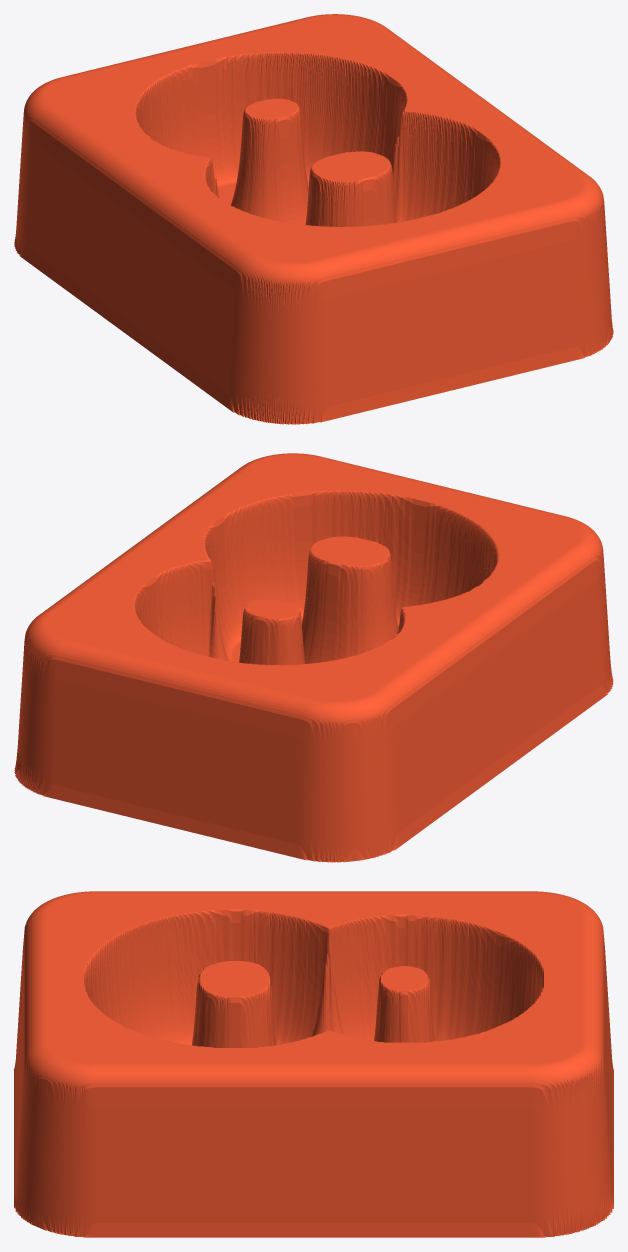
Rendered from mold.glb.
3 renders of one model, top to bottom at view 1: azimuth 30°, elevation 25°; view 2: azimuth 150°, elevation 25°; view 3: azimuth 270°, elevation 25°, orthographic. The views are drawn at different scales.
Parts seen in each view (by area): view 1: geometry_0; view 2: geometry_0; view 3: geometry_0.
Boxes of the visible parts, left/top/right/bottom form: geometry_0: left=14, top=14, right=613, bottom=424; geometry_0: left=14, top=453, right=613, bottom=862; geometry_0: left=14, top=891, right=613, bottom=1237.
Size of the model in its own units: 0.0522 by 0.0197 by 0.067.
